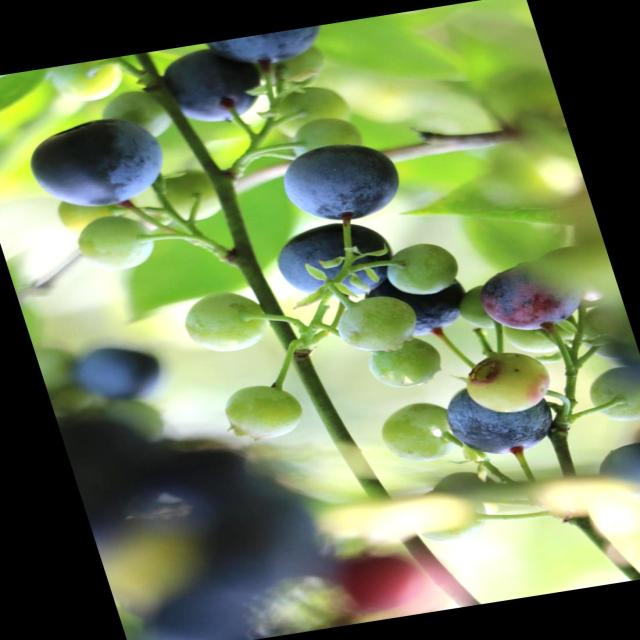blueberry: (22, 113, 179, 217), (261, 216, 412, 308), (270, 138, 409, 226), (437, 374, 566, 466), (158, 42, 272, 128), (466, 256, 586, 336), (369, 270, 473, 344), (63, 334, 166, 404), (218, 26, 322, 70)
blueberry-unripe: (450, 344, 560, 422), (178, 284, 272, 360), (63, 206, 159, 279), (371, 398, 467, 465), (258, 79, 366, 138), (220, 375, 310, 445), (326, 292, 426, 355), (380, 241, 464, 299), (361, 334, 444, 392), (148, 171, 234, 226), (42, 56, 130, 107), (279, 112, 367, 162), (98, 86, 168, 144), (578, 364, 639, 426), (416, 496, 491, 541)
